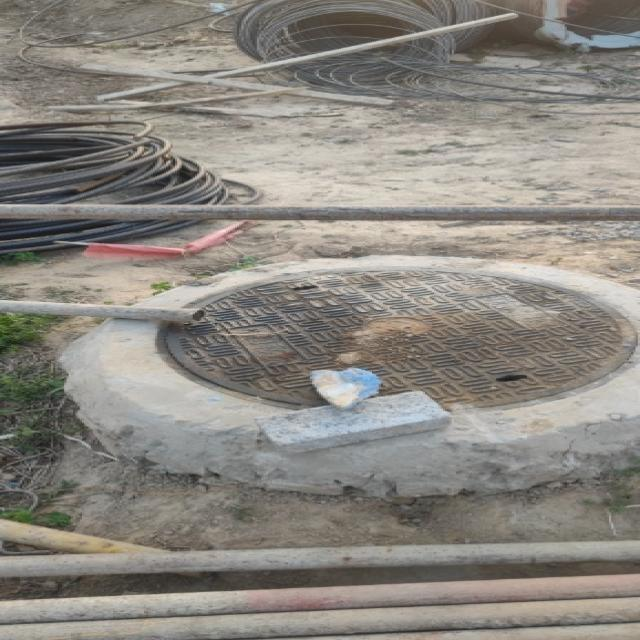Good: (147, 260, 640, 428)
